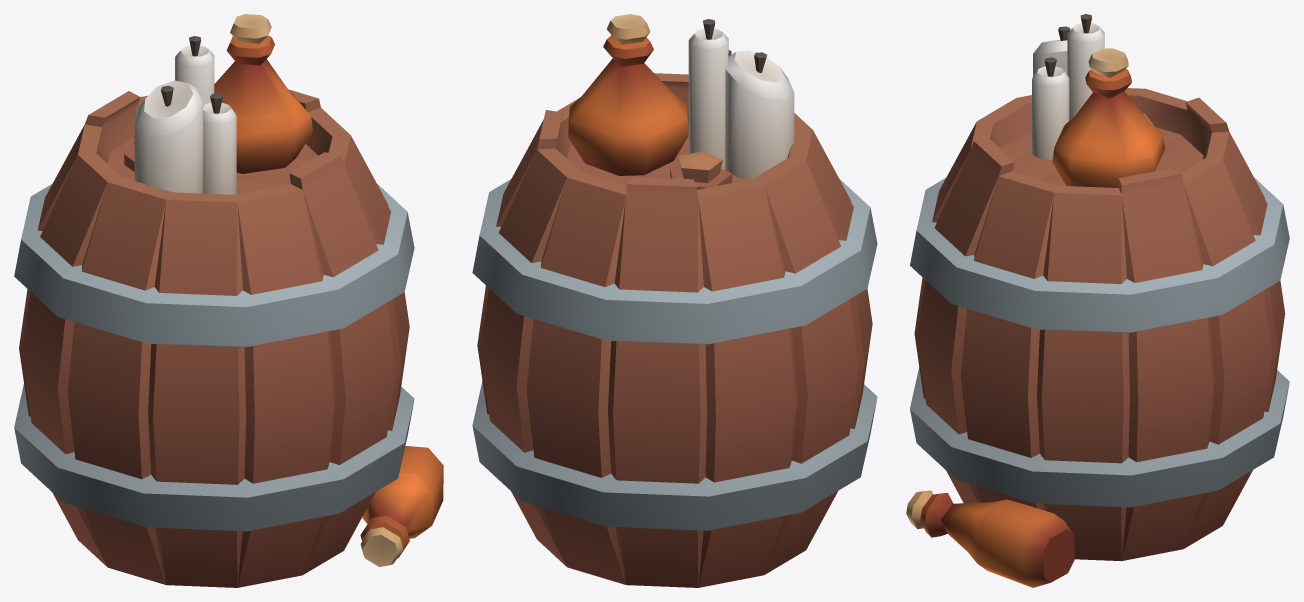
Rendered from cc0-barrel-decorated-lod0.glb.
The picture shows the model from 3 angles, left to right: view 1: azimuth 30°, elevation 25°; view 2: azimuth 150°, elevation 25°; view 3: azimuth 270°, elevation 25°; orthographic projection. The views are drawn at different scales.
Parts seen in each view (by area): view 1: part_0; view 2: part_0; view 3: part_0.
Boxes of the visible parts, bbox=[...] form: part_0: bbox=[14, 14, 443, 587]; part_0: bbox=[472, 14, 877, 587]; part_0: bbox=[906, 14, 1289, 587].
Bounding box in the file's own units: 1.94 × 2.56 × 1.86.
Materials: 1 (1 with a texture image).
